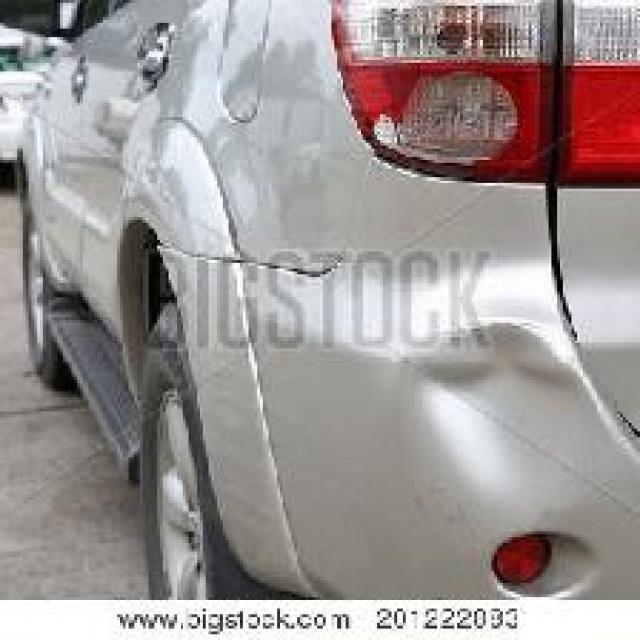car damage: (412, 317, 625, 512), (237, 250, 344, 278)
